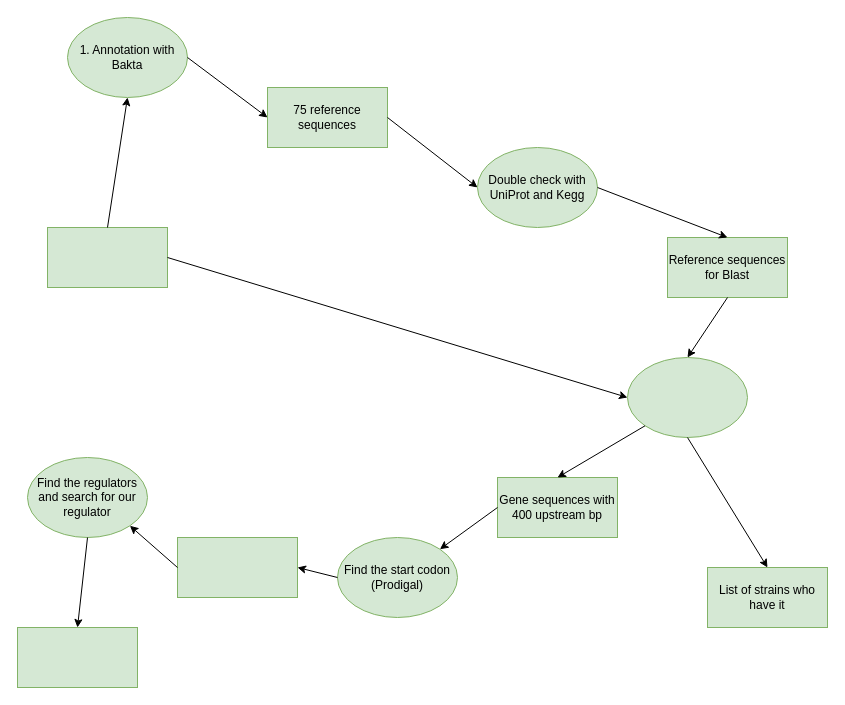
Image size: 845x705. Some labels were removed from this diagram. Each missing label, with the box of its shape:
BlastN to obtain IroN sequences: (626, 356, 748, 438)
Enterobacteria genomes: (46, 226, 168, 288)
List of strains regulated by the target regulator: (16, 626, 138, 688)
Upstream sequences: (176, 536, 298, 598)
